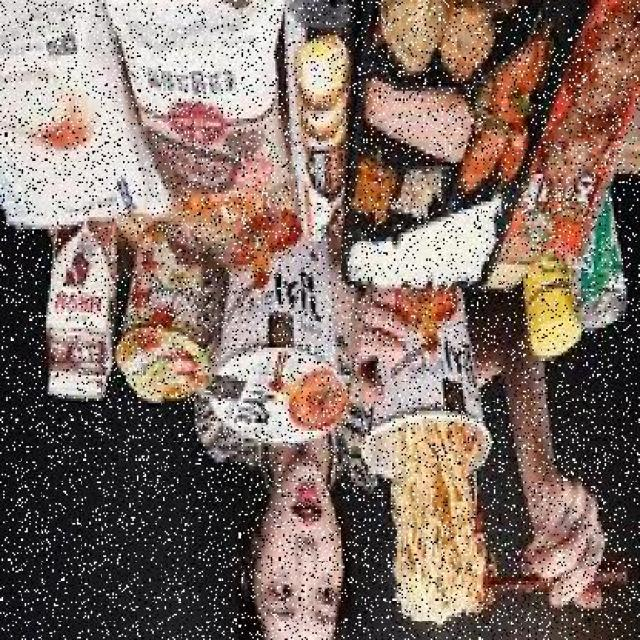Miscellaneous: (214, 209, 344, 443), (354, 270, 488, 487), (112, 229, 203, 400)
